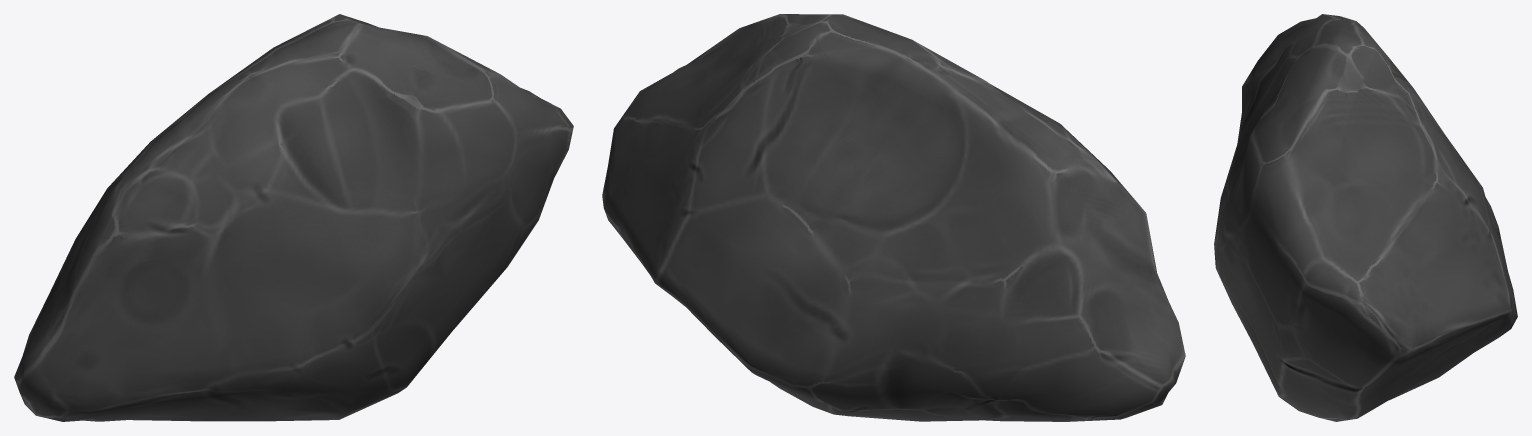
The model's file is Rock_one.fbx.
The picture shows the model from 3 angles, left to right: view 1: azimuth 30°, elevation 25°; view 2: azimuth 150°, elevation 25°; view 3: azimuth 270°, elevation 25°; orthographic projection. The views are drawn at different scales.
Visible parts, largest first — view 1: rock_1; view 2: rock_1; view 3: rock_1.
Boxes of the visible parts, box(x1,y1,x2,y2) form: rock_1: box(14, 14, 573, 421); rock_1: box(602, 14, 1185, 421); rock_1: box(1214, 14, 1517, 421).
Bounding box in the file's own units: 134 × 87.4 × 65.12.
